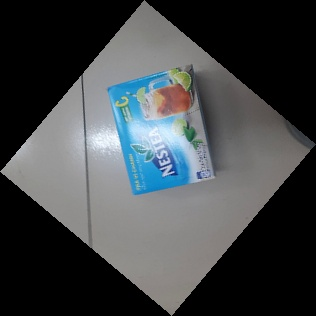Nestea: (107, 64, 218, 197)
